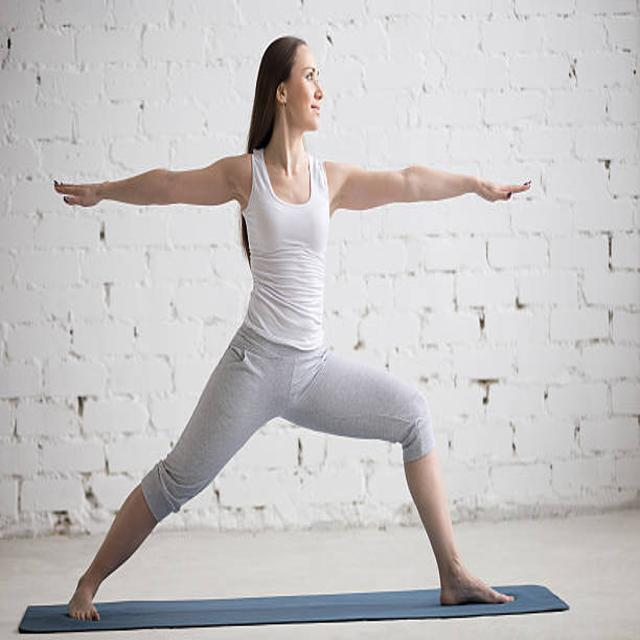Warrior_II: (51, 34, 534, 607)
